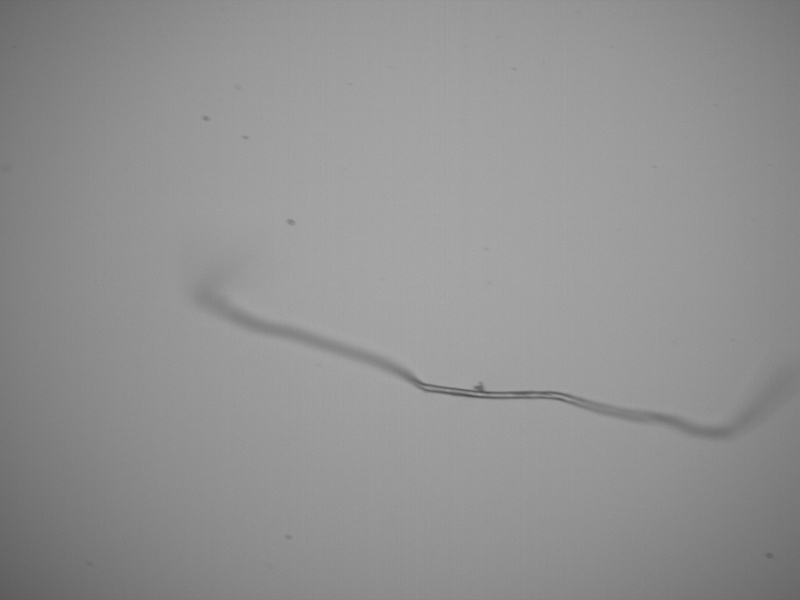fiber: (190, 281, 800, 446)
